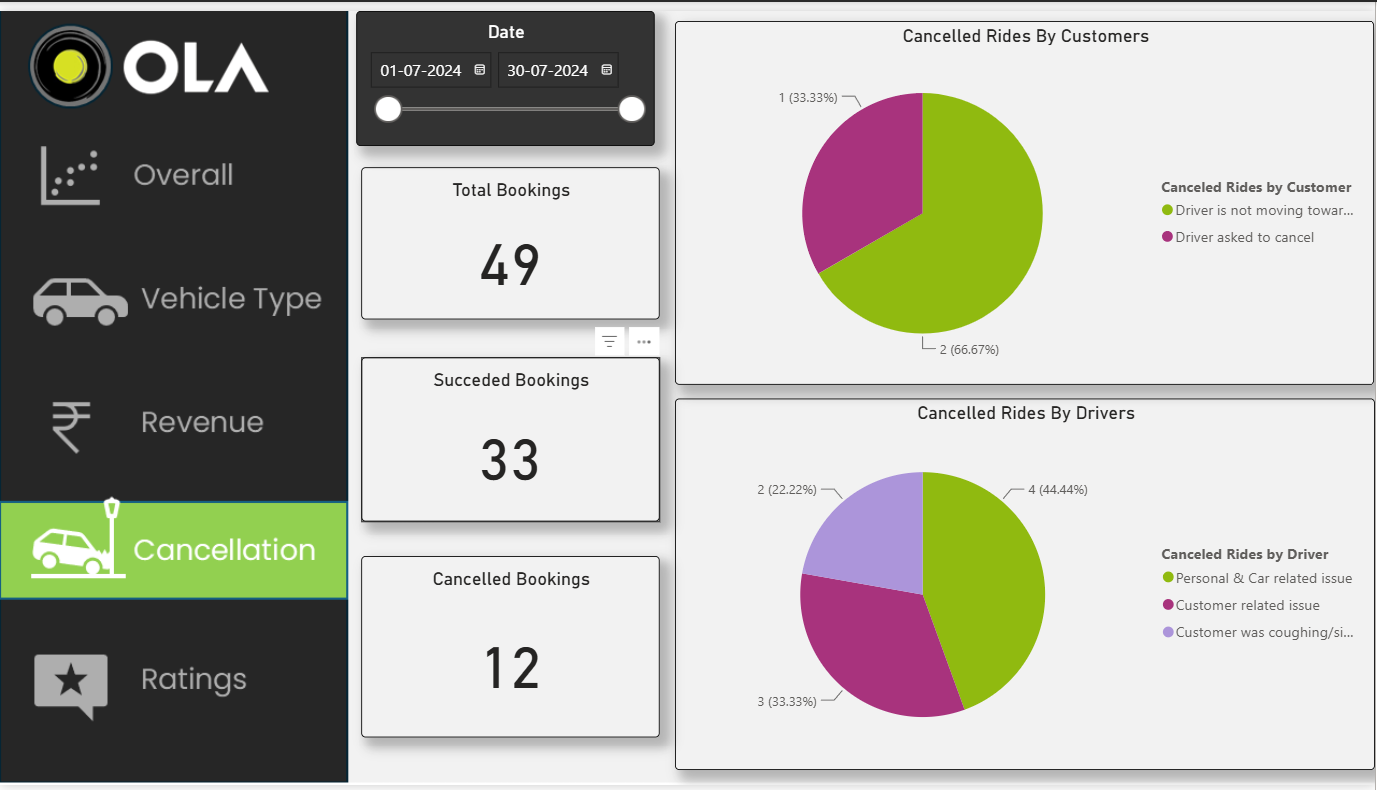

Layout of this report page (visuals, bound fields, positions):
{"tool":"powerbi","page":{"name":"Cancellation","canvas":[1280,720],"ordinal":3},"visuals":[{"type":"actionButton","box":[0,109.2,320.2,92],"z":0},{"type":"actionButton","box":[0,584.1,320.2,92],"z":1000},{"type":"actionButton","box":[0,338.7,320.2,92],"z":2000},{"type":"actionButton","box":[0,219.6,320.2,92],"z":3000},{"type":"pieChart","title":"Cancelled Rides By Customers","fields":{"Category":["Bookings-20000-Rows.Canceled_Rides_by_Customer"],"Y":["CountNonNull(Bookings-20000-Rows.Canceled_Rides_by_Customer)"]},"box":[628.2,9.8,651.5,338.7],"z":4000},{"type":"pieChart","title":"Cancelled Rides By Drivers","fields":{"Category":["Bookings-20000-Rows.Canceled_Rides_by_Driver"],"Y":["CountNonNull(Bookings-20000-Rows.Canceled_Rides_by_Driver)"]},"box":[628.4,360.5,651.9,345.7],"z":5000},{"type":"slicer","title":"Date","fields":{"Values":["Bookings-20000-Rows.Date"]},"box":[330.9,0,277.8,125.9],"z":6000},{"type":"card","title":"Total Bookings","fields":{"Values":["Count(Bookings-20000-Rows.Booking_ID)"]},"box":[335.8,145.7,277.8,142],"z":7000},{"type":"card","title":"Succeded Bookings","fields":{"Values":["Count(Bookings-20000-Rows.Booking_ID)"]},"box":[335.8,322.2,277.8,153.1],"z":8000},{"type":"card","title":"Cancelled Bookings","fields":{"Values":["Count(Bookings-20000-Rows.Booking_ID)"]},"box":[335.8,507.4,277.8,169.1],"z":9000}]}

Visuals, with their boxes in screenshot pixels (x1, y1, x2, y2), scaled from the page's 1280x720 canvas onto the 1377x790 screenshot:
actionButton: (0, 120, 344, 221)
actionButton: (0, 641, 344, 742)
actionButton: (0, 372, 344, 473)
actionButton: (0, 241, 344, 342)
"Cancelled Rides By Customers" pieChart: (676, 11, 1376, 382)
"Cancelled Rides By Drivers" pieChart: (676, 396, 1376, 775)
"Date" slicer: (356, 0, 655, 138)
"Total Bookings" card: (361, 160, 660, 316)
"Succeded Bookings" card: (361, 354, 660, 522)
"Cancelled Bookings" card: (361, 557, 660, 742)
